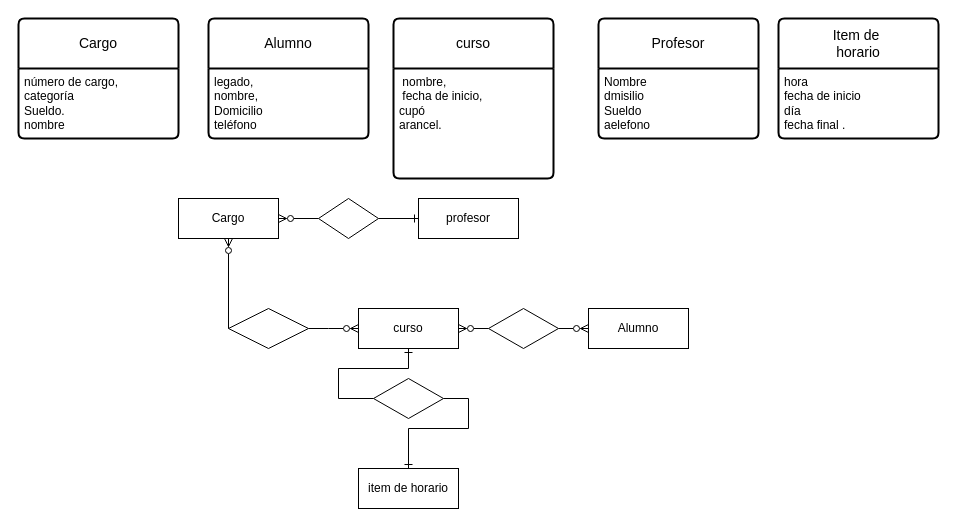
The diagram is 956 pixels wide and 526 high, and some of its shapes have lost their labels. The shapes that lost their labels are listed below. From the top down, each one's centre as x and y in pixels, then its label:
At (x=348, y=218): "N:1".
At (x=268, y=328): "N;1".
At (x=523, y=328): "N:M".
At (x=408, y=398): "1;N".
